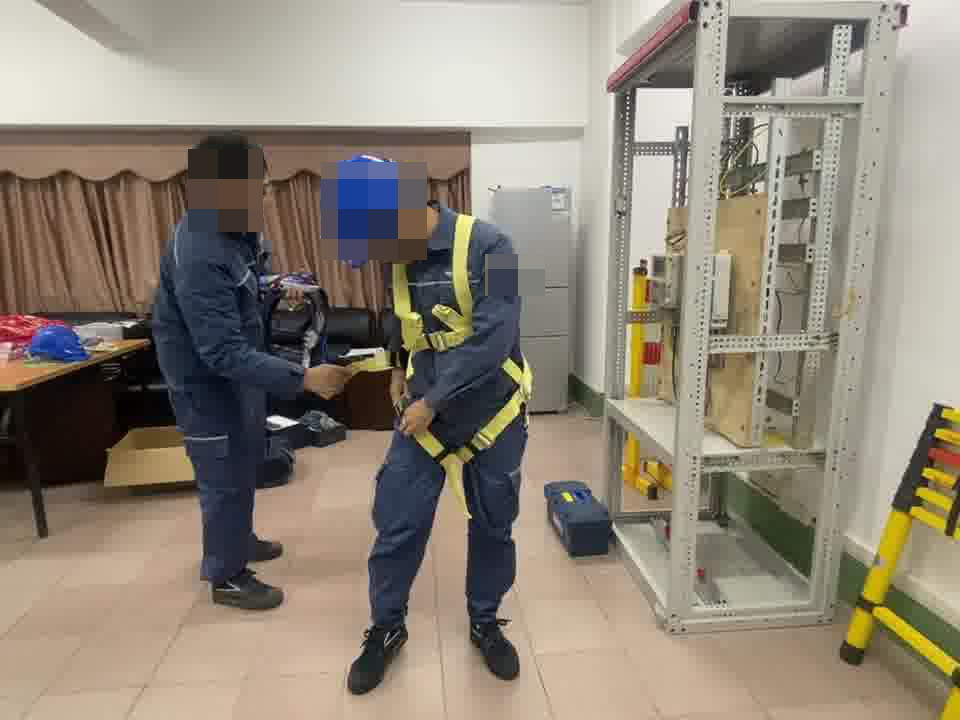downsuit: (367, 396, 529, 626), (170, 391, 261, 578)
halt: (322, 155, 409, 263)
hand: (303, 362, 347, 397), (397, 395, 435, 431)
inear: (385, 213, 424, 252)
noear: (194, 170, 251, 217)
person: (324, 150, 536, 687), (154, 134, 296, 605)
safebelt: (392, 208, 529, 489)
sleeve: (498, 258, 521, 292)
unhalt: (192, 137, 271, 219)
upsuit: (400, 206, 529, 392), (159, 211, 281, 384)
